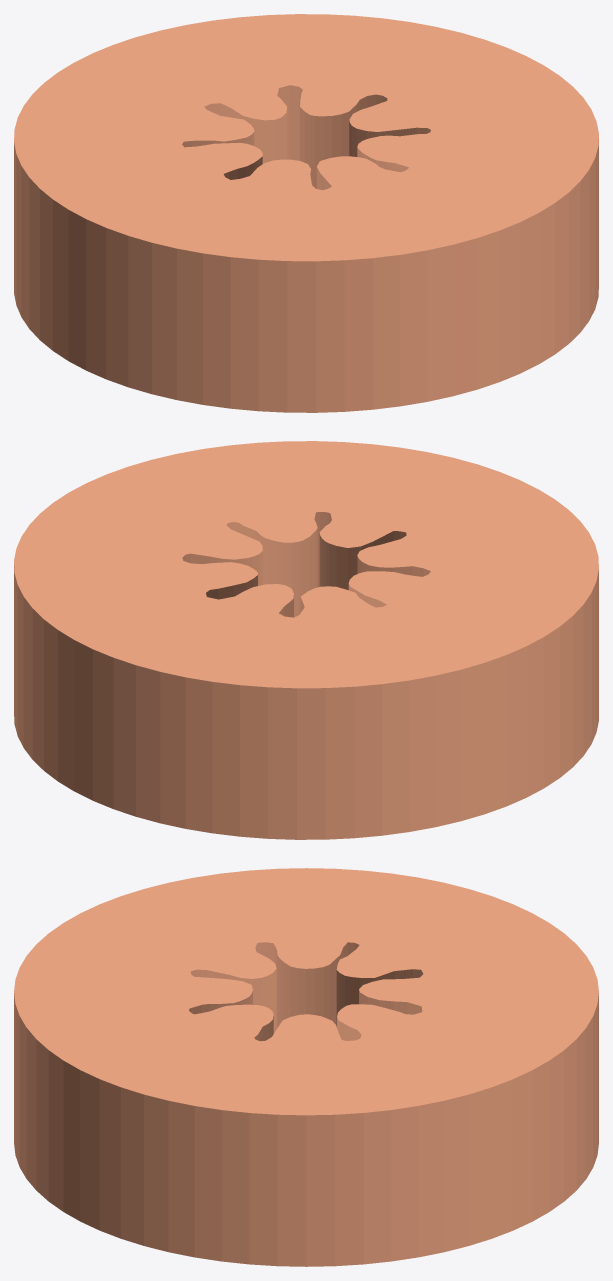
File: lungs2Test1.fbx
3 renders of one model, top to bottom at view 1: azimuth 30°, elevation 25°; view 2: azimuth 150°, elevation 25°; view 3: azimuth 270°, elevation 25°, orthographic.
Visible parts, largest first — view 1: Cylinder; view 2: Cylinder; view 3: Cylinder.
Boxes of the visible parts, x1,y1,x2,y2 form: Cylinder: [14, 14, 598, 412]; Cylinder: [14, 441, 598, 839]; Cylinder: [14, 868, 598, 1266].
Size of the model in its own units: 7 by 2 by 7.
